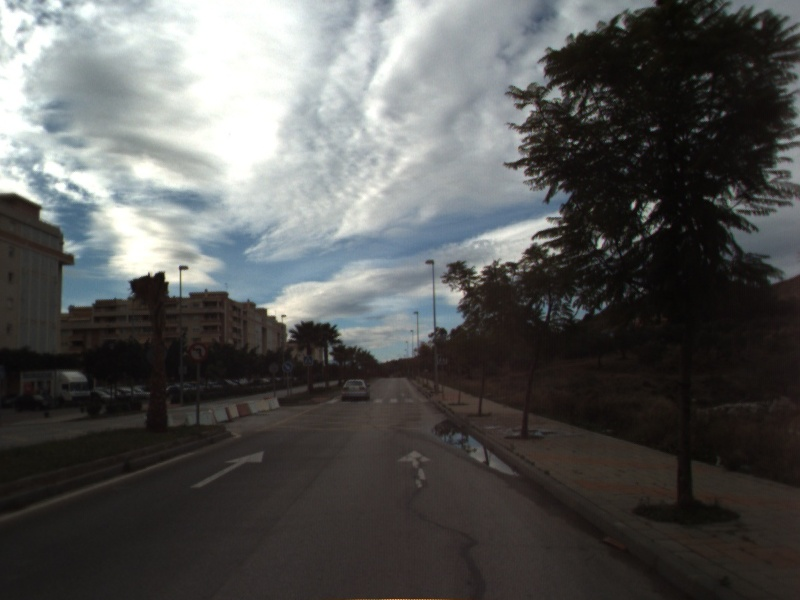STRAIGHT: (188, 449, 266, 490), (395, 448, 433, 490)
